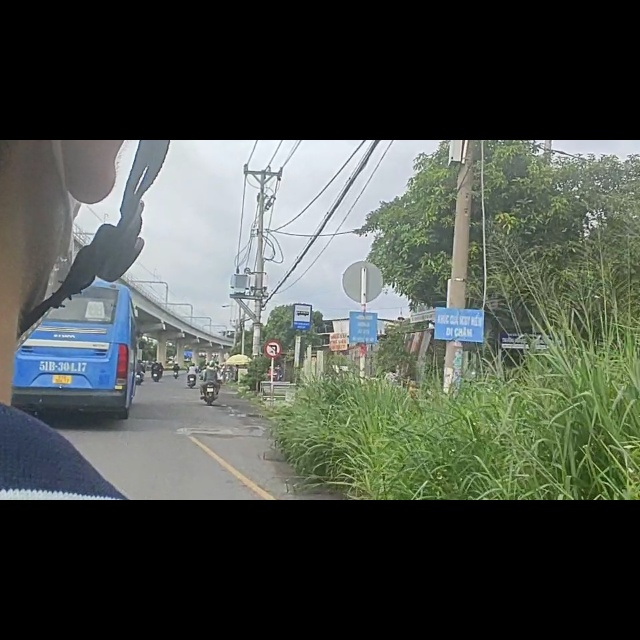bien_cam: (292, 289, 313, 337), (263, 354, 283, 388)
